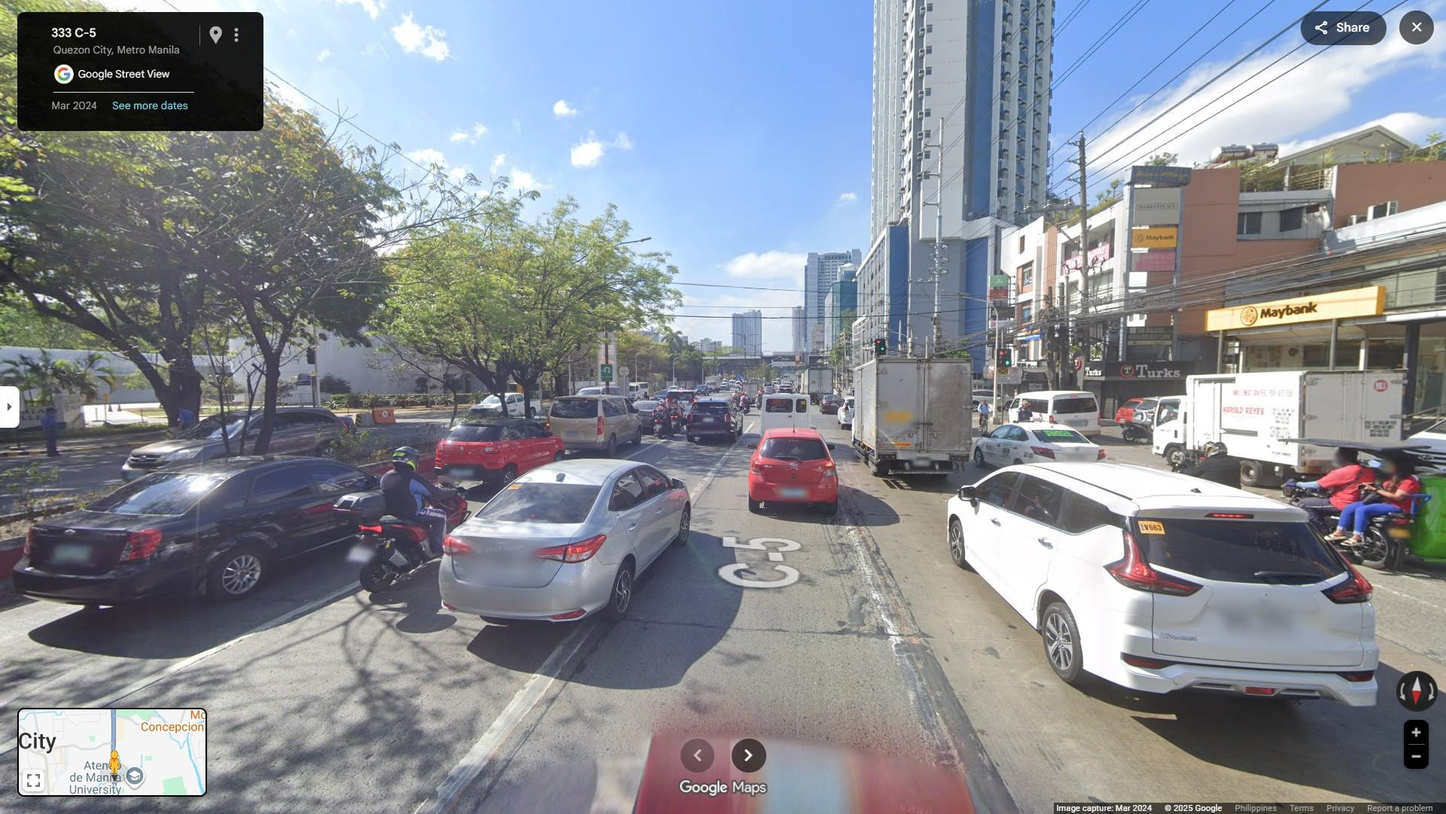cyclist: (977, 398, 993, 434)
pedestrian: (41, 405, 63, 457), (176, 401, 195, 446), (1015, 399, 1033, 438)
